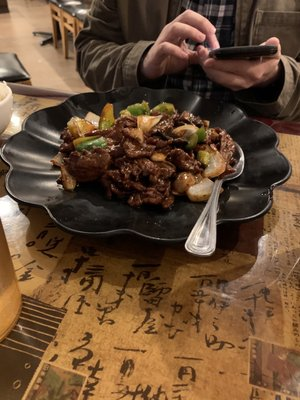salad: (184, 133, 243, 257)
